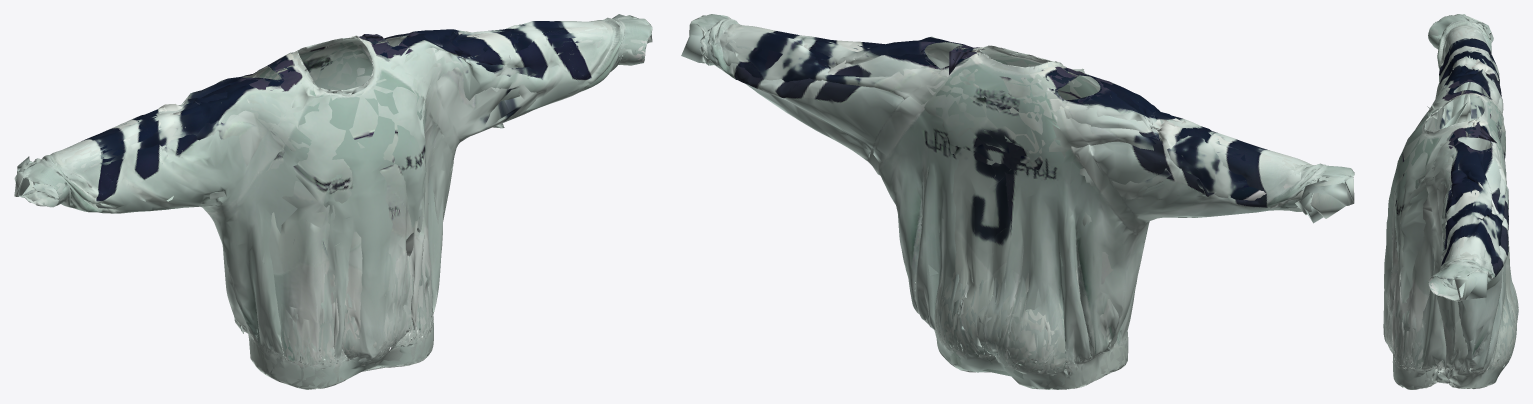
The picture shows the model from 3 angles, left to right: view 1: azimuth 30°, elevation 25°; view 2: azimuth 150°, elevation 25°; view 3: azimuth 270°, elevation 25°; orthographic projection. The views are drawn at different scales.
Parts seen in each view (by area): view 1: Mesh_0.001; view 2: Mesh_0.001; view 3: Mesh_0.001.
Part boxes in pixels (x1,y1,x2,y2): Mesh_0.001: (14,14,652,389); Mesh_0.001: (681,14,1354,389); Mesh_0.001: (1383,14,1518,389).
Bounding box in the file's own units: 1.75 × 0.7887 × 0.3716.
1 material, 1 textured.
